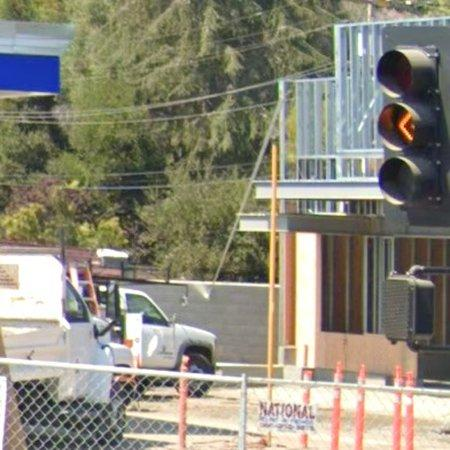traffic lights: (378, 27, 450, 210)
